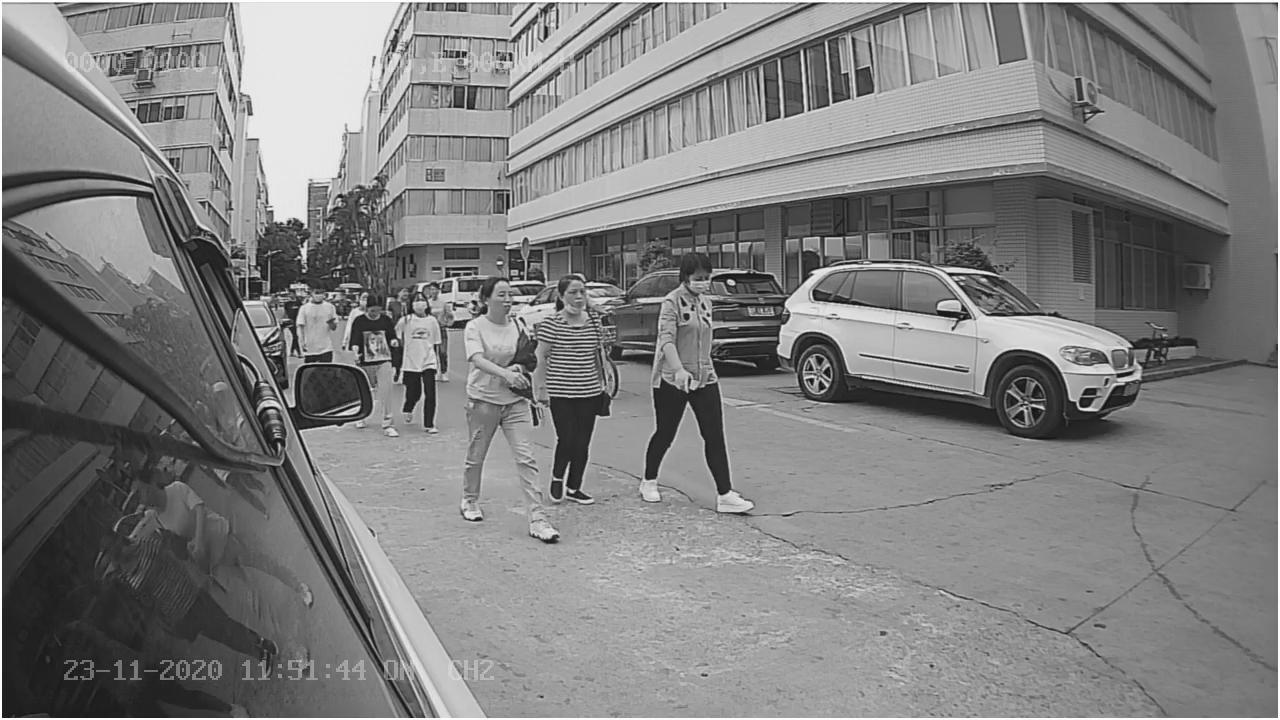person: (637, 250, 750, 512), (460, 281, 557, 546), (392, 292, 443, 433)
